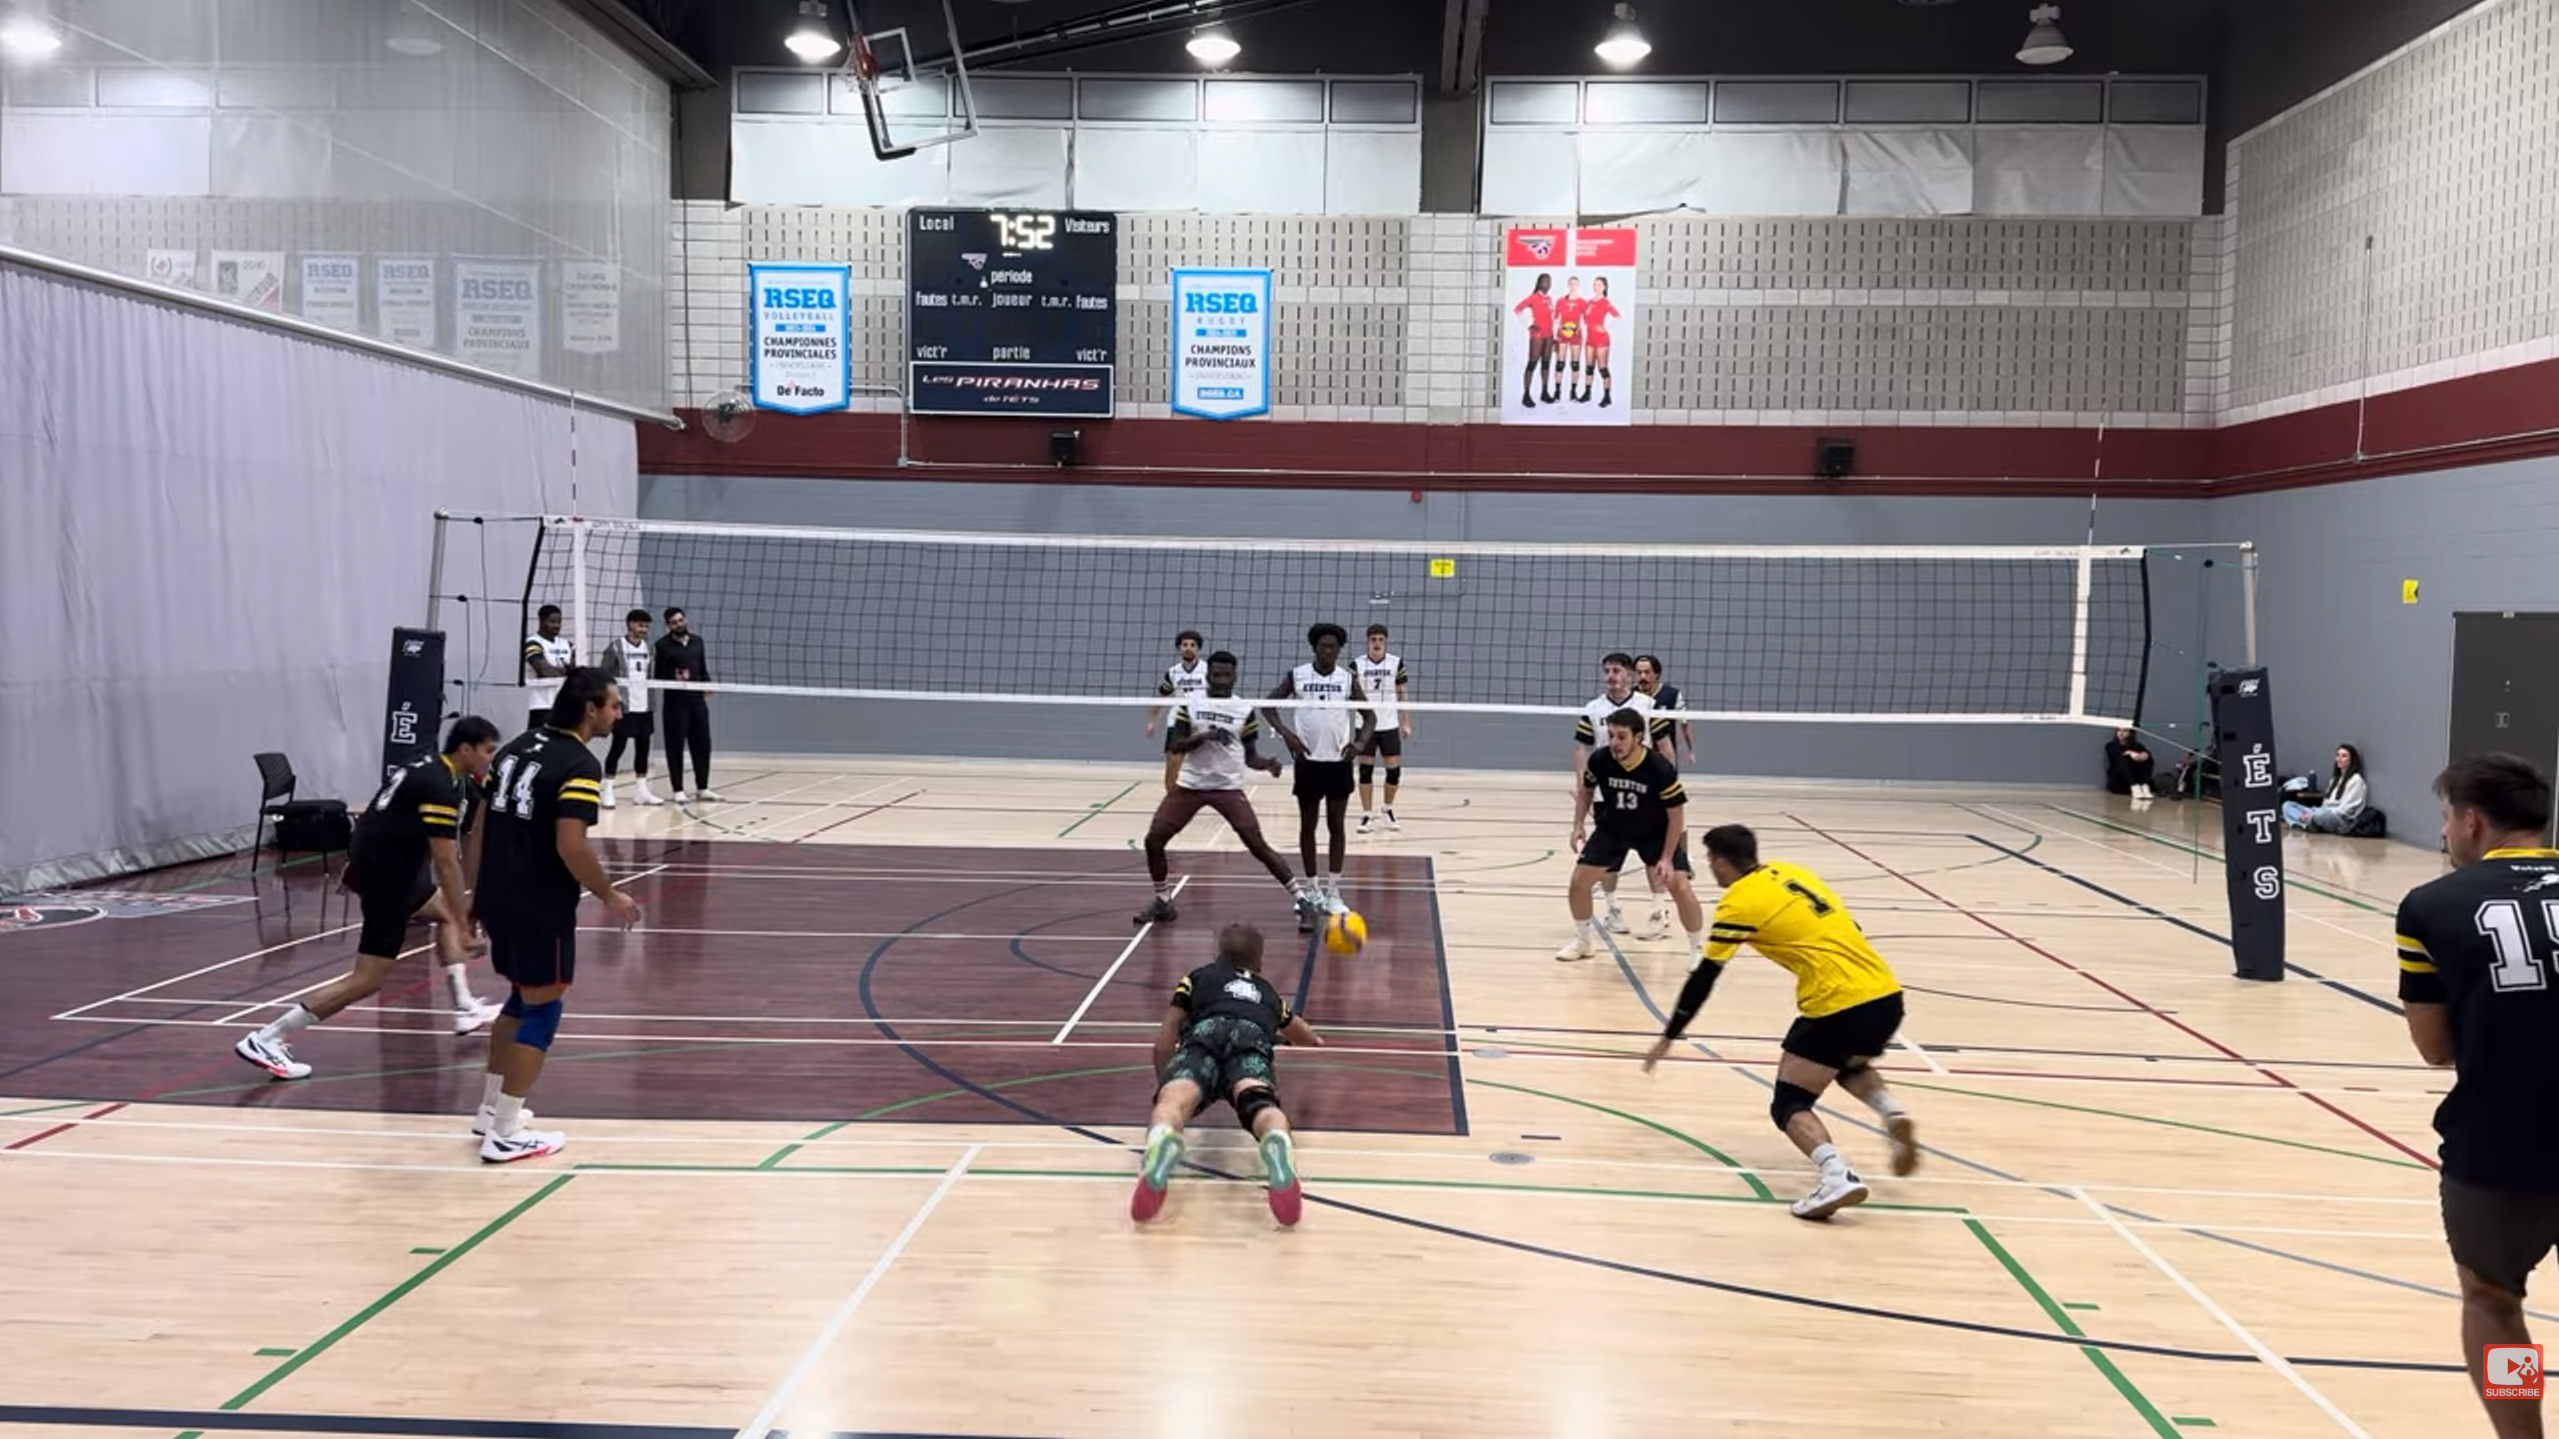Ball: (1320, 907, 1371, 959)
